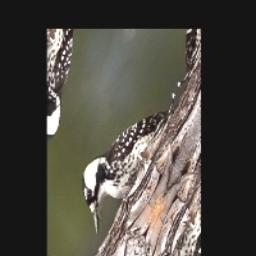Woodpecker: (68, 66, 173, 252)
